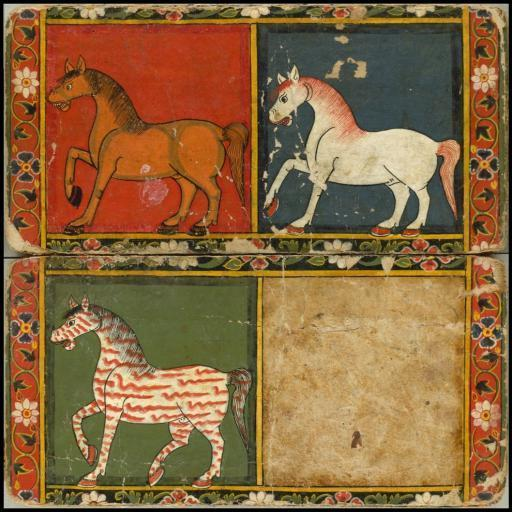horse: (49, 292, 254, 489), (45, 54, 251, 236), (262, 64, 460, 236)
